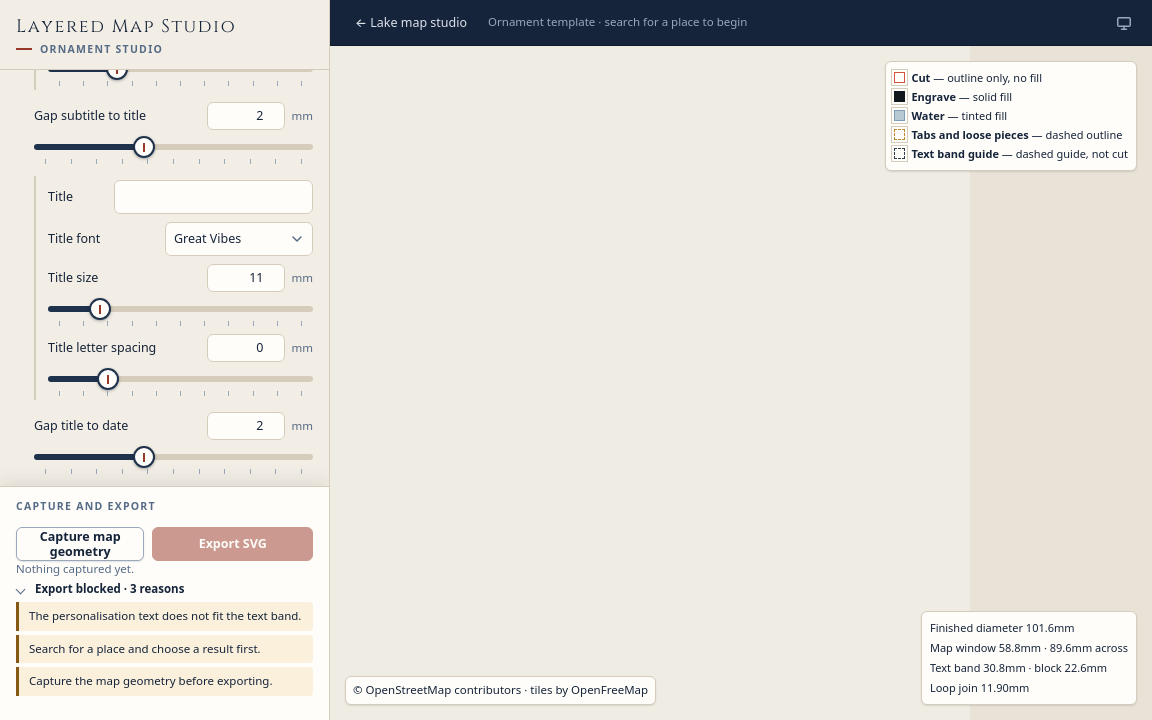
accessibility of the ornament controls › roles are not carried by colour alone › summarises the badge in words rather than by colour
(page scrolled)
Replace the text in the number field labelled "Title size" with "60". click: coordinates (246, 278)
box: [208,264,286,292]
(page scrolled)
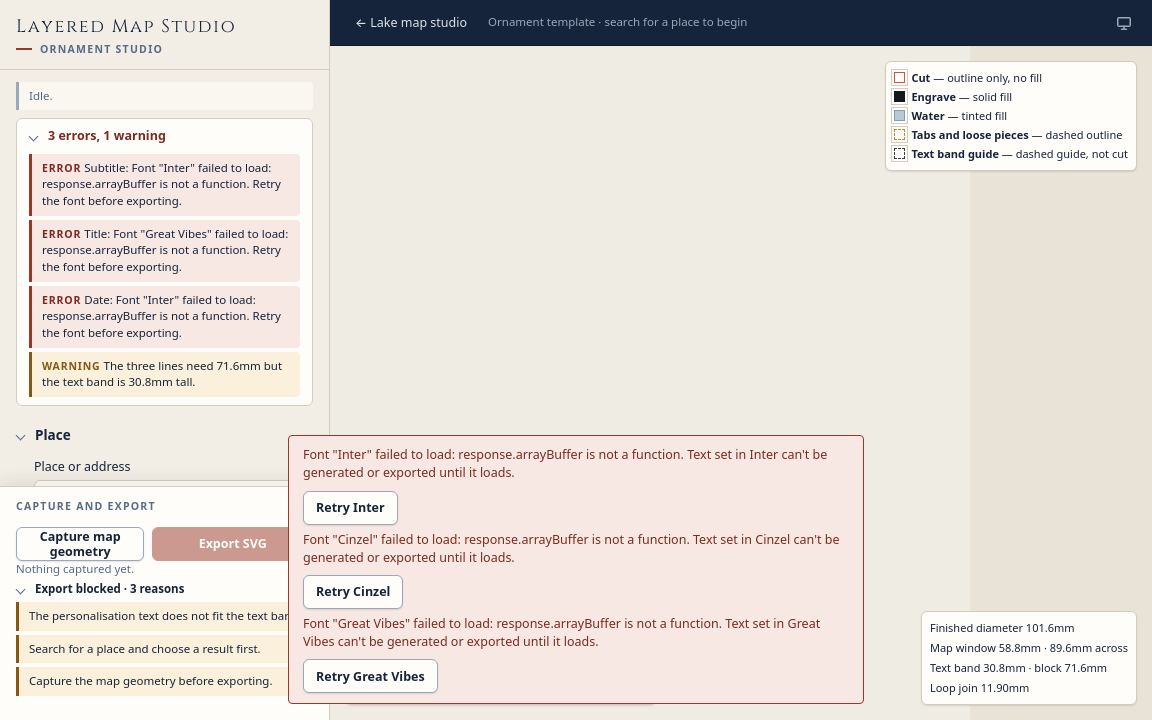
Now the heading "3 errors, 1 warning" is shown, box [48,128,166,144]
